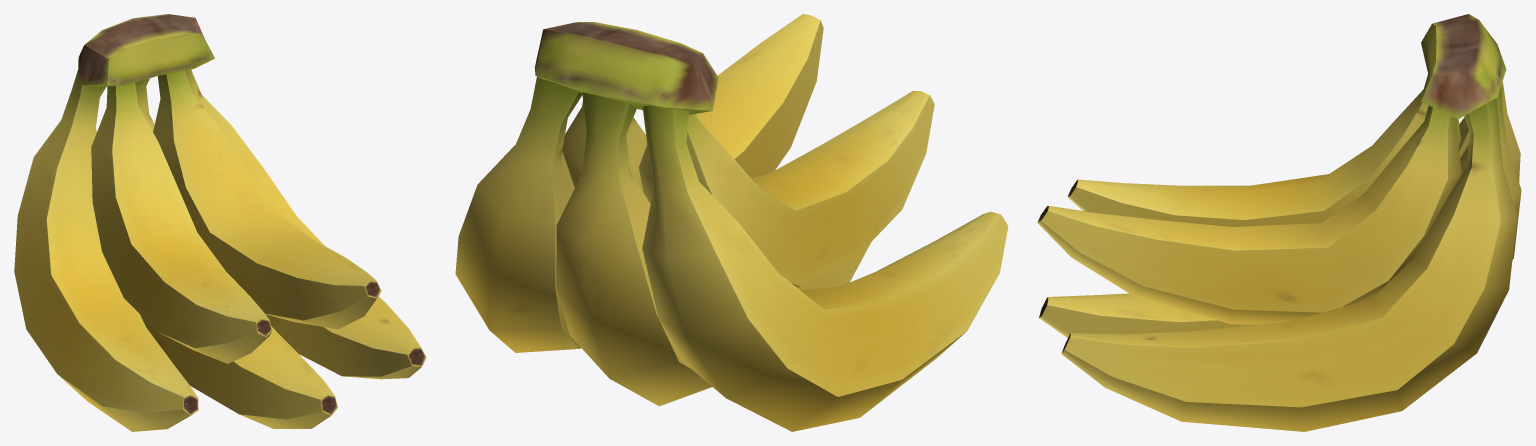
Rendered from jsf_Banana_02.fbx.
3 renders of one model, left to right at view 1: azimuth 30°, elevation 25°; view 2: azimuth 150°, elevation 25°; view 3: azimuth 270°, elevation 25°, orthographic. The views are drawn at different scales.
Parts seen in each view (by area): view 1: jsf_Banana_02; view 2: jsf_Banana_02; view 3: jsf_Banana_02.
Part boxes in pixels (x1,y1,x2,y2): jsf_Banana_02: (14, 14, 426, 431); jsf_Banana_02: (455, 14, 1008, 431); jsf_Banana_02: (1037, 14, 1521, 431).
Size of the model in its own units: 13.92 by 14.41 by 17.85.
